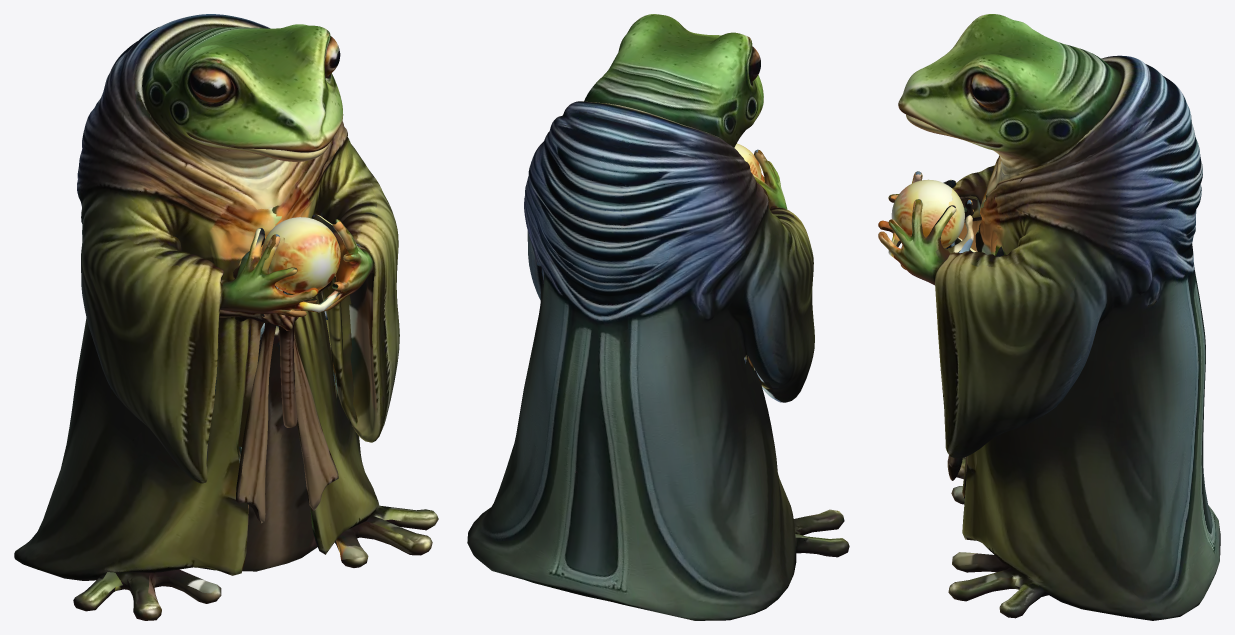
The model's file is dgjw20l5.glb.
3 views of the same model, side by side, from view 1: azimuth 30°, elevation 25°; view 2: azimuth 150°, elevation 25°; view 3: azimuth 270°, elevation 25° (orthographic). The views are drawn at different scales.
Parts seen in each view (by area): view 1: Frog; view 2: Frog; view 3: Frog.
Boxes of the visible parts, box(x1,y1,x2,y2) form: Frog: box(14, 14, 438, 620); Frog: box(467, 14, 849, 620); Frog: box(878, 14, 1220, 620).
Bounding box in the file's own units: 0.4451 × 0.65 × 0.3911.
1 material, 1 textured.
